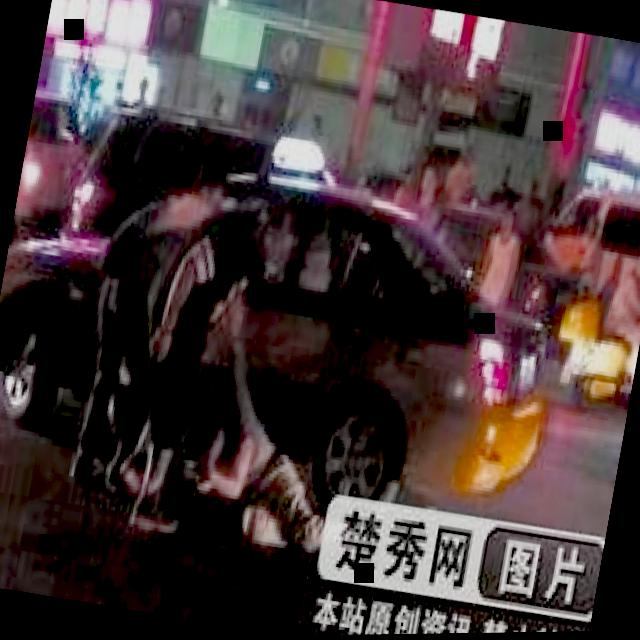Fall-Detected: (172, 388, 348, 570)
